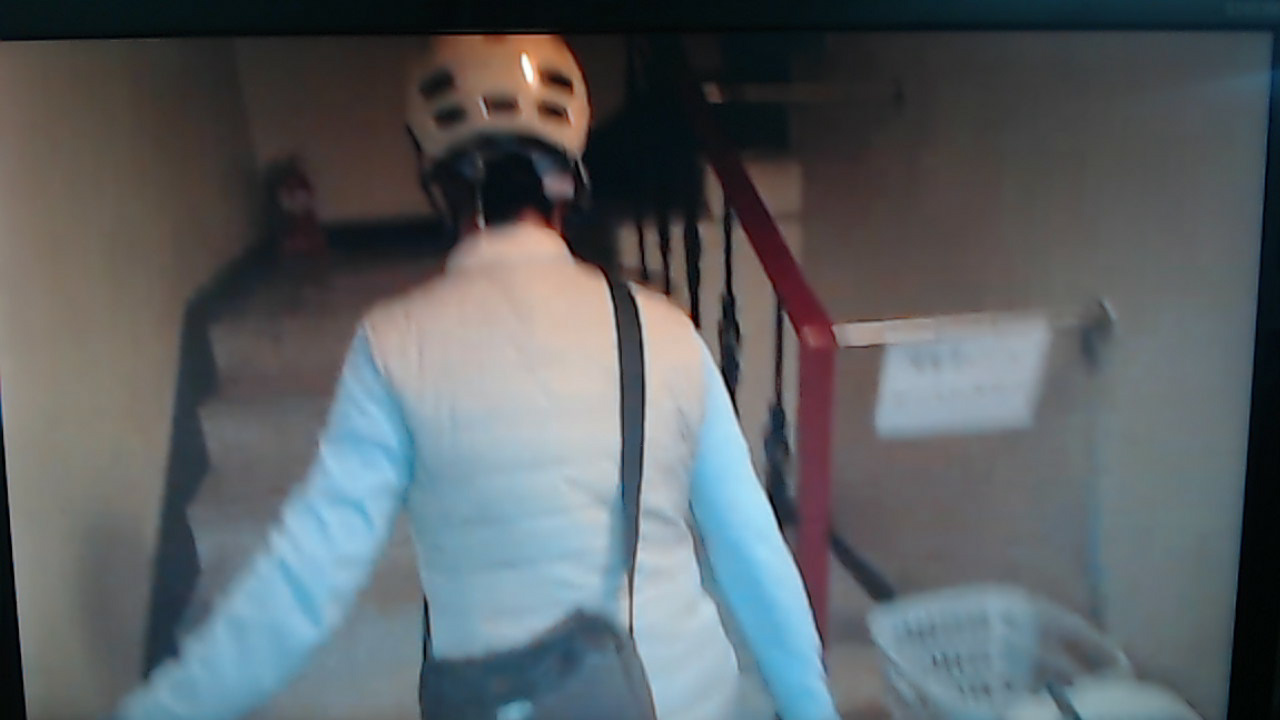Yakurut: (26, 45, 791, 720)
